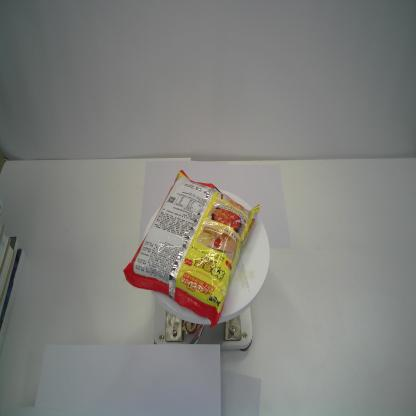Instant Noodles: (122, 168, 260, 330)
